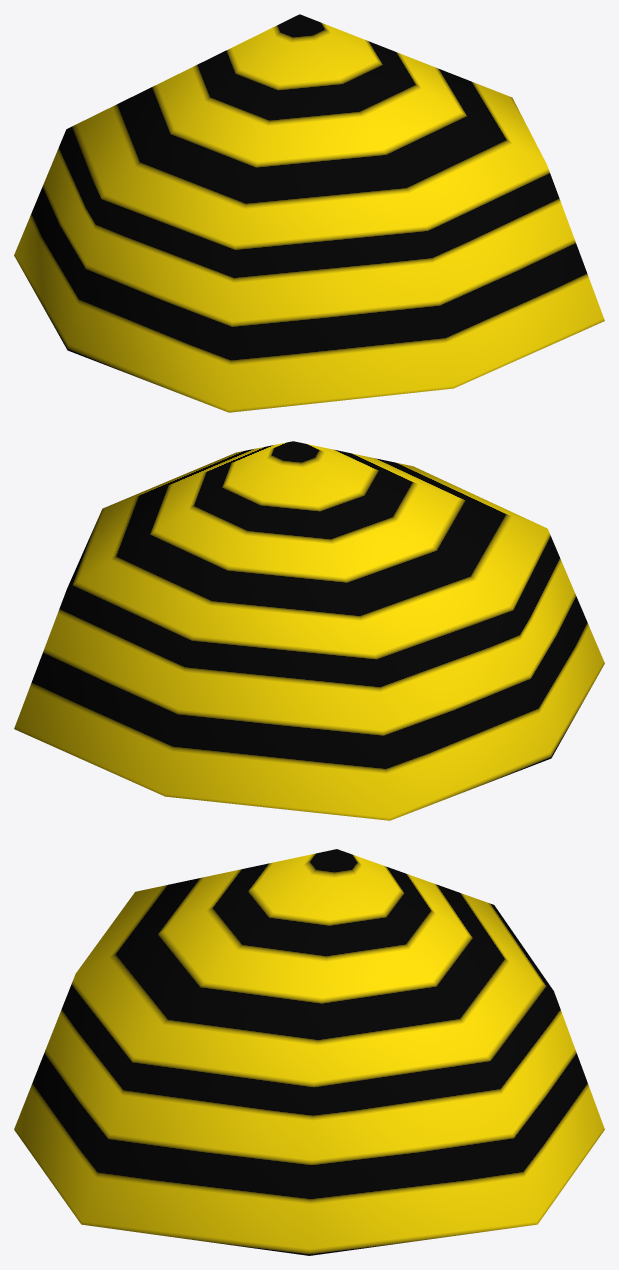
File: beeHat.FBX
3 renders of one model, top to bottom at view 1: azimuth 30°, elevation 25°; view 2: azimuth 150°, elevation 25°; view 3: azimuth 270°, elevation 25°, orthographic. The views are drawn at different scales.
Parts seen in each view (by area): view 1: hatBilain; view 2: hatBilain; view 3: hatBilain.
Part boxes in pixels (x1,y1,x2,y2): hatBilain: (14,14,604,412); hatBilain: (14,441,604,820); hatBilain: (14,849,604,1255).
Size of the model in its own units: 19.24 by 10.14 by 19.17.
